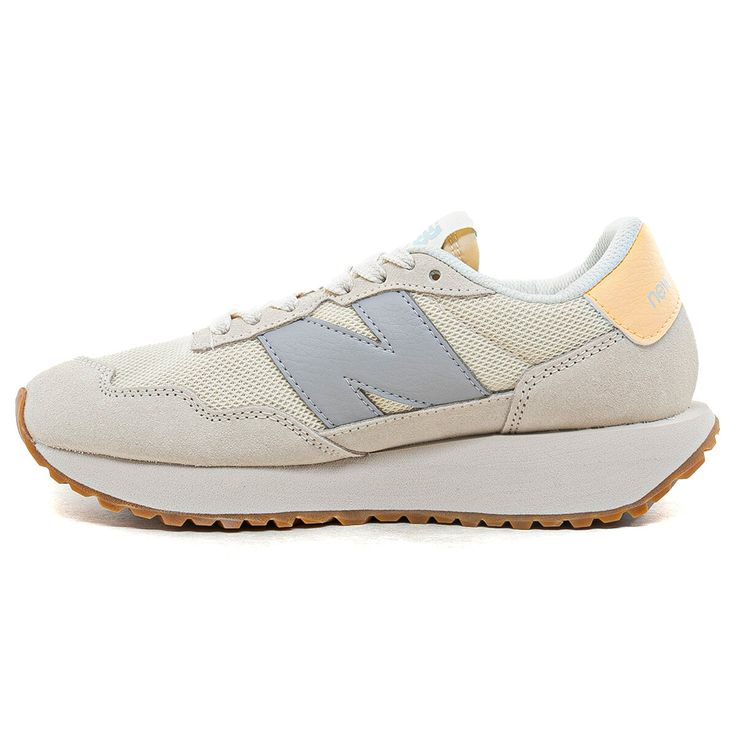gamuza: (25, 250, 699, 470)
